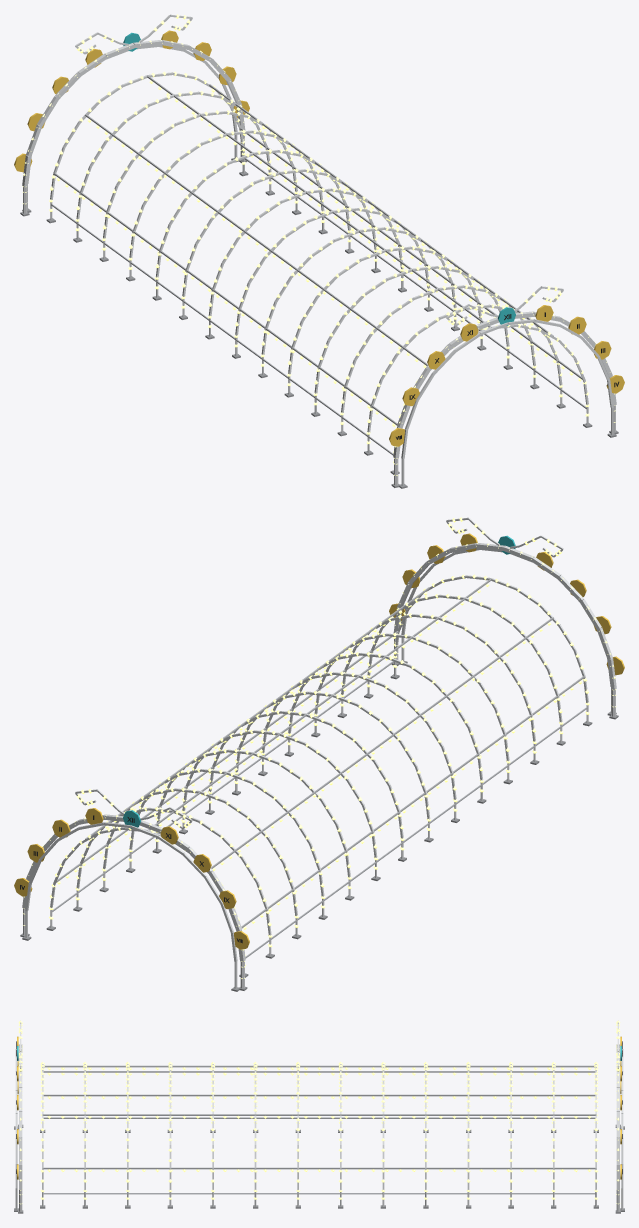
The model's file is chap.glb.
The picture shows the model from 3 angles, top to bottom: view 1: azimuth 30°, elevation 25°; view 2: azimuth 150°, elevation 25°; view 3: azimuth 270°, elevation 25°; orthographic projection. The views are drawn at different scales.
Parts seen in each view (by area): view 1: base; view 2: base; view 3: base.
Part boxes in pixels (x1,y1,x2,y2): base: [14, 14, 624, 488]; base: [14, 517, 624, 991]; base: [14, 1020, 624, 1213].
Size of the model in its own units: 6.47 by 4.32 by 18.1.
